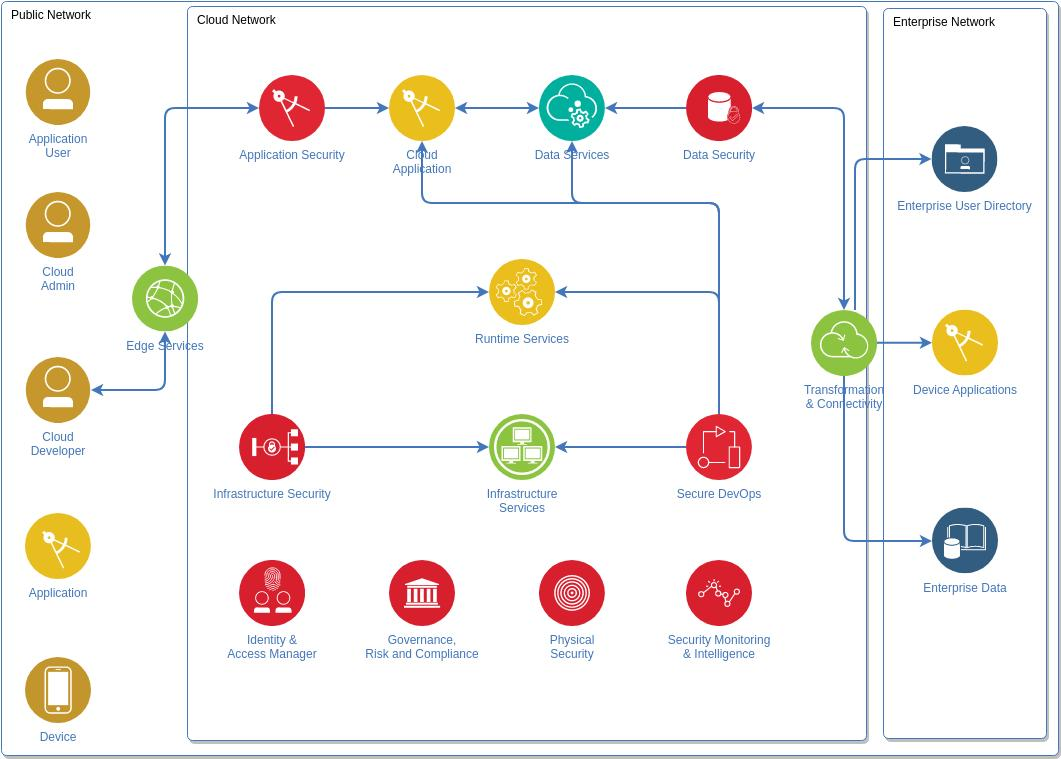API Gateway: (539, 76, 612, 141)
Auth: (540, 554, 608, 634), (232, 558, 306, 629)
Backend: (390, 73, 457, 144), (27, 518, 93, 587), (936, 308, 1001, 378), (492, 260, 551, 323)
Database: (933, 507, 1003, 572)
Firewall: (682, 76, 755, 146), (681, 416, 755, 485), (237, 414, 306, 480), (261, 74, 329, 139)
Frontend: (140, 271, 201, 333)
Networking: (485, 410, 556, 477), (804, 313, 875, 370)
Storage: (930, 128, 1002, 195)
User: (30, 195, 90, 259), (28, 62, 86, 124), (37, 359, 84, 427), (36, 662, 80, 720)
